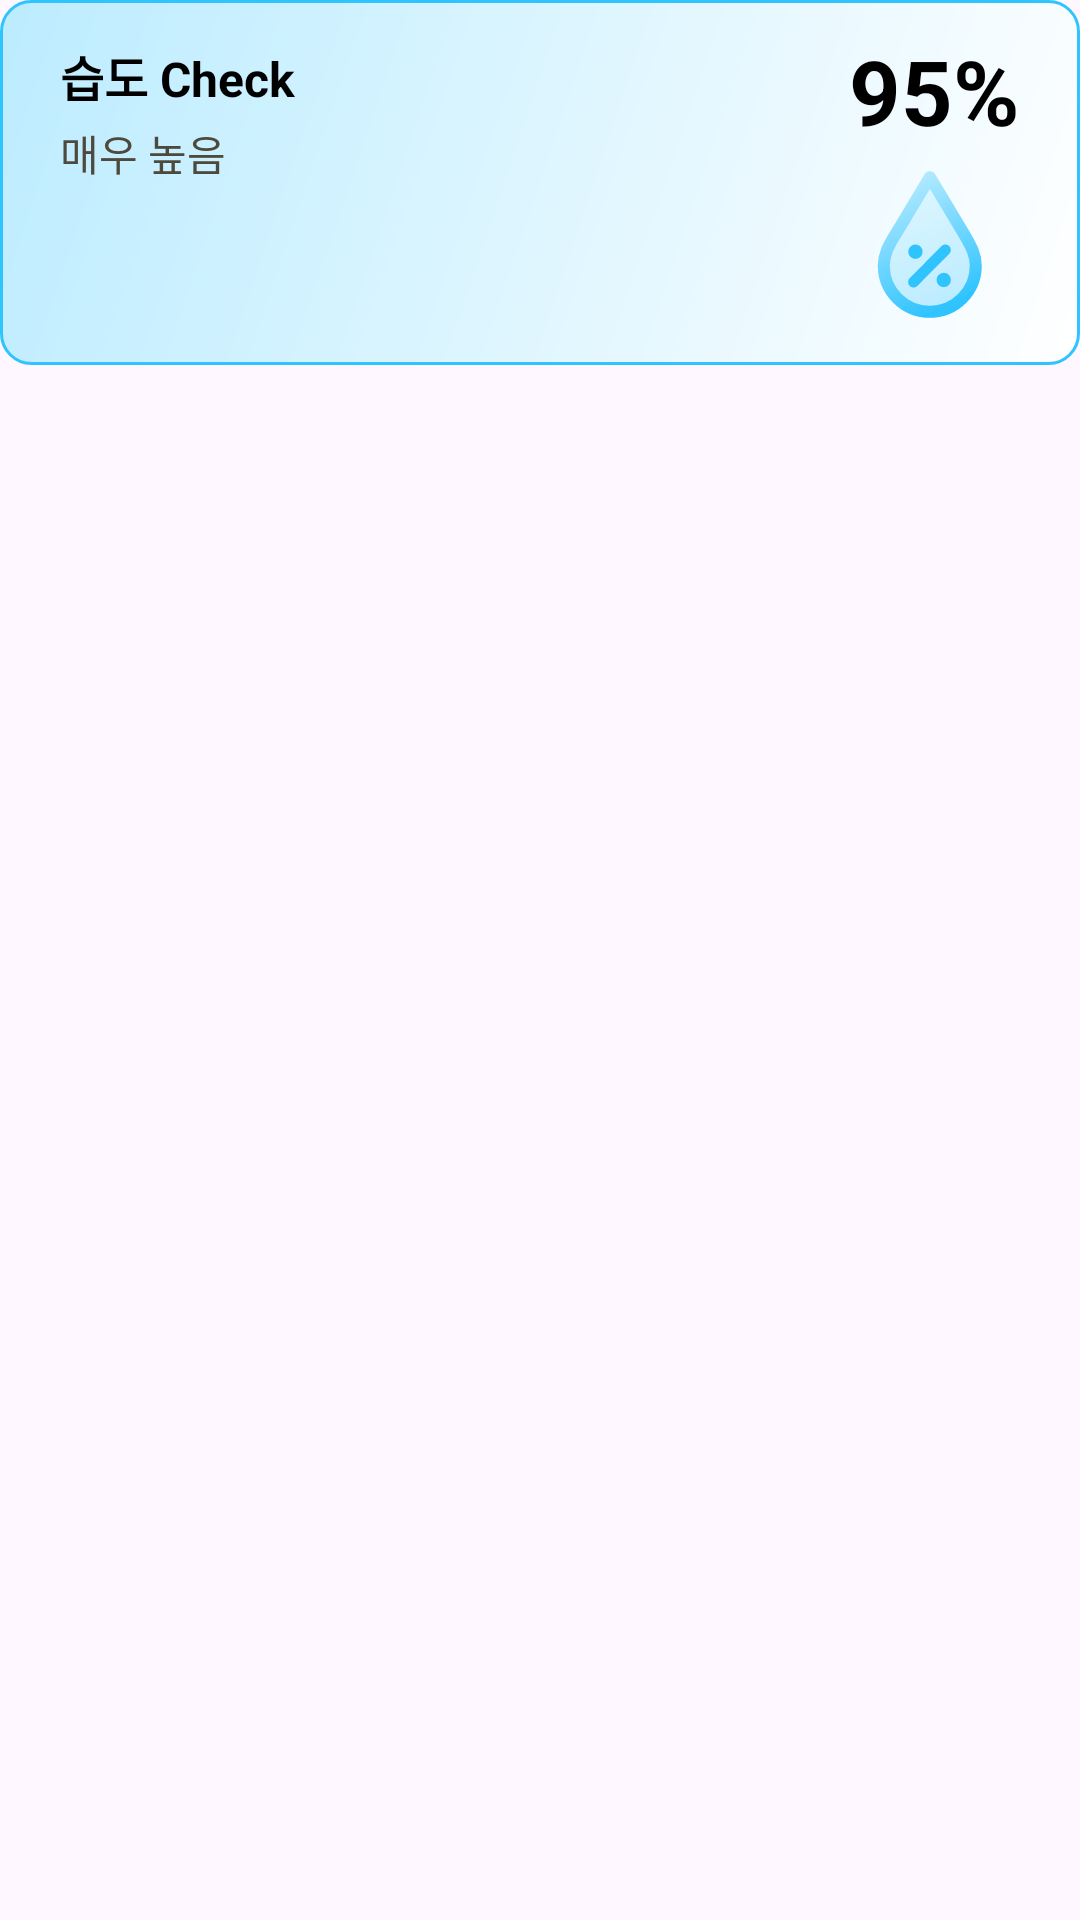

Point at icon controls on the screen. Image size 1080*1920, points as point (x, y).
home humidity water: point (929, 244)
